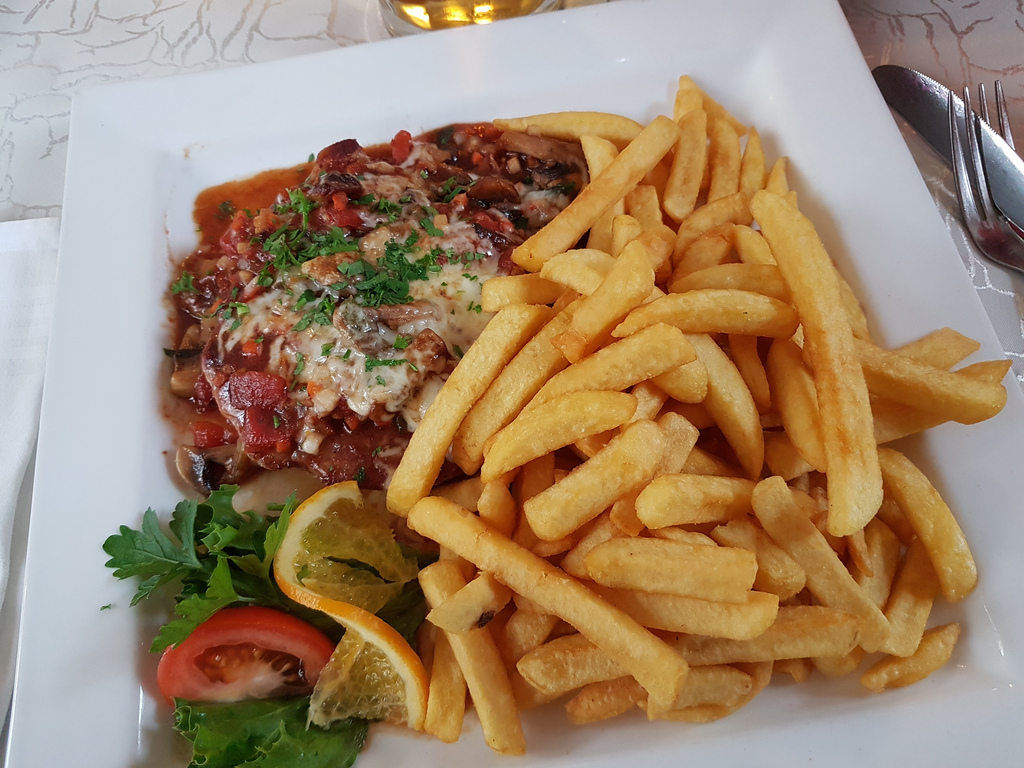meatballs: (234, 197, 404, 368)
